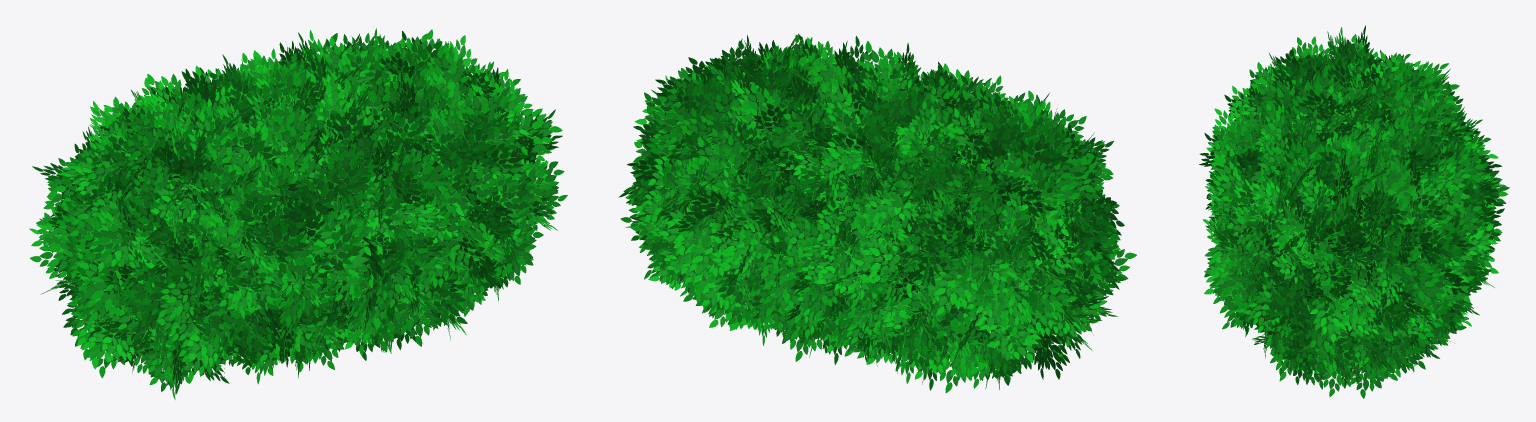
The model's file is arbusto 2 .fbx.
The picture shows the model from 3 angles, left to right: view 1: azimuth 30°, elevation 25°; view 2: azimuth 150°, elevation 25°; view 3: azimuth 270°, elevation 25°; orthographic projection. The views are drawn at different scales.
Parts seen in each view (by area): view 1: Arbusto 2; view 2: Arbusto 2; view 3: Arbusto 2.
Boxes of the visible parts, x1,y1,x2,y2 form: Arbusto 2: (29,28,567,399); Arbusto 2: (618,33,1136,392); Arbusto 2: (1199,25,1509,398).
Bounding box in the file's own units: 546 × 324 × 366.
